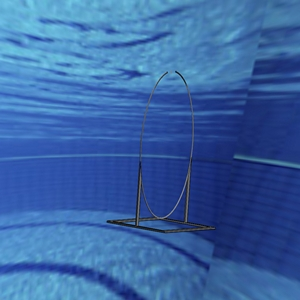circle: (105, 69, 216, 233)
